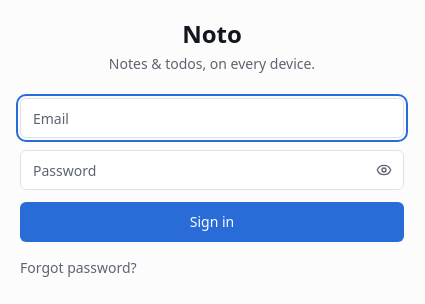
Scenario: LoginPage › validates the email format before submitting
The width and height of the screenshot is (425, 304).
Type "not-an-email" into the field labelled "Email" at [212, 118], box left=20, top=98, right=404, bottom=138
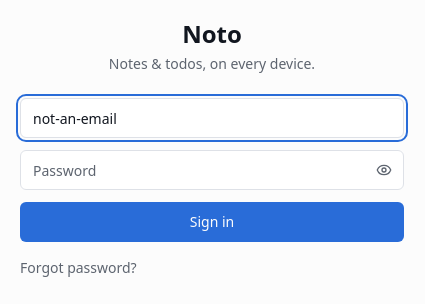
Type "whatever" into the password field labelled "Password" at [212, 170], box left=20, top=150, right=404, bottom=190
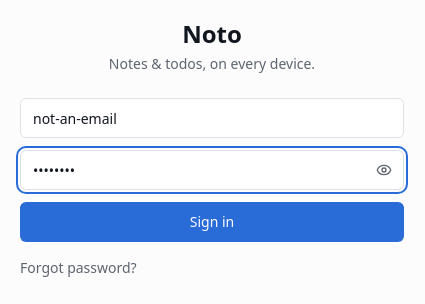
Click the button "Sign in" at [212, 222], box left=20, top=202, right=404, bottom=242
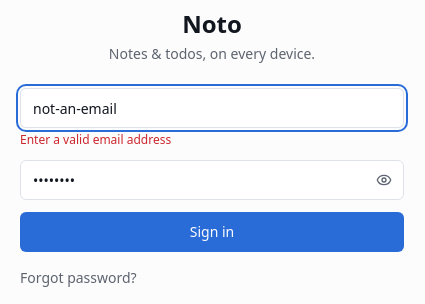
expect the text "Enter a valid email address" is shown: met, box left=20, top=131, right=171, bottom=148
